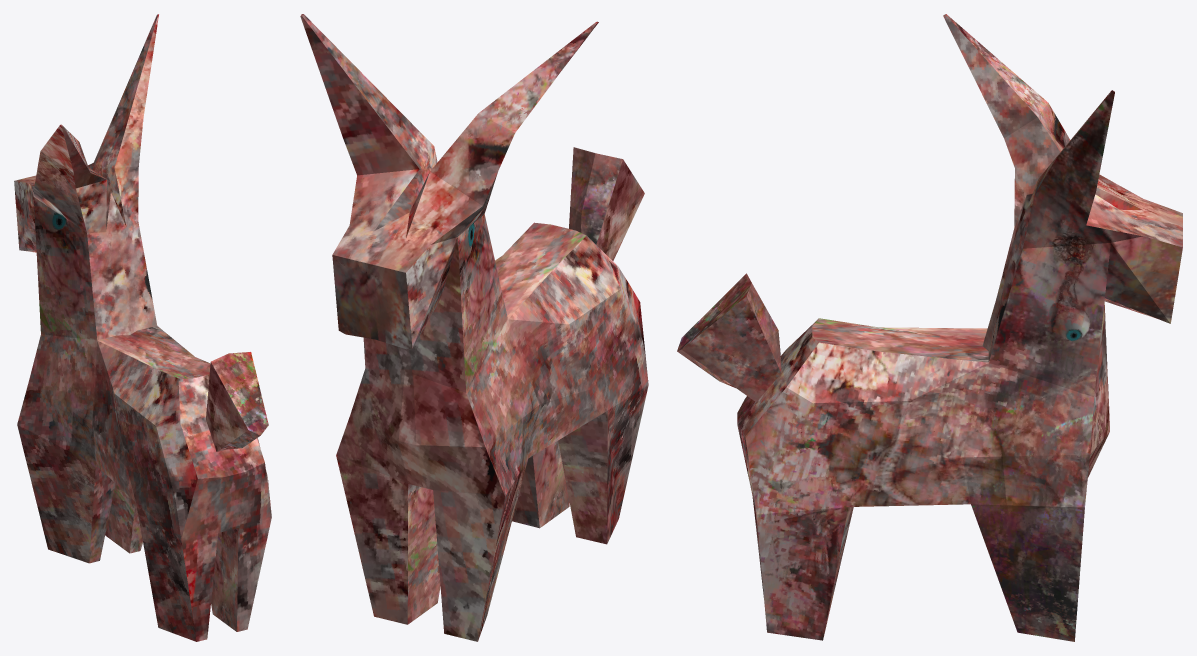
Rendered from pinyatameat.fbx.
3 renders of one model, left to right at view 1: azimuth 30°, elevation 25°; view 2: azimuth 150°, elevation 25°; view 3: azimuth 270°, elevation 25°, orthographic. The views are drawn at different scales.
Visible parts, largest first — view 1: Plane; view 2: Plane; view 3: Plane.
Boxes of the visible parts, bbox=[...] form: Plane: bbox=[14, 14, 271, 641]; Plane: bbox=[300, 14, 648, 641]; Plane: bbox=[677, 14, 1182, 641].
Size of the model in its own units: 115 by 319 by 254.
Materials: 1 (1 with a texture image).
